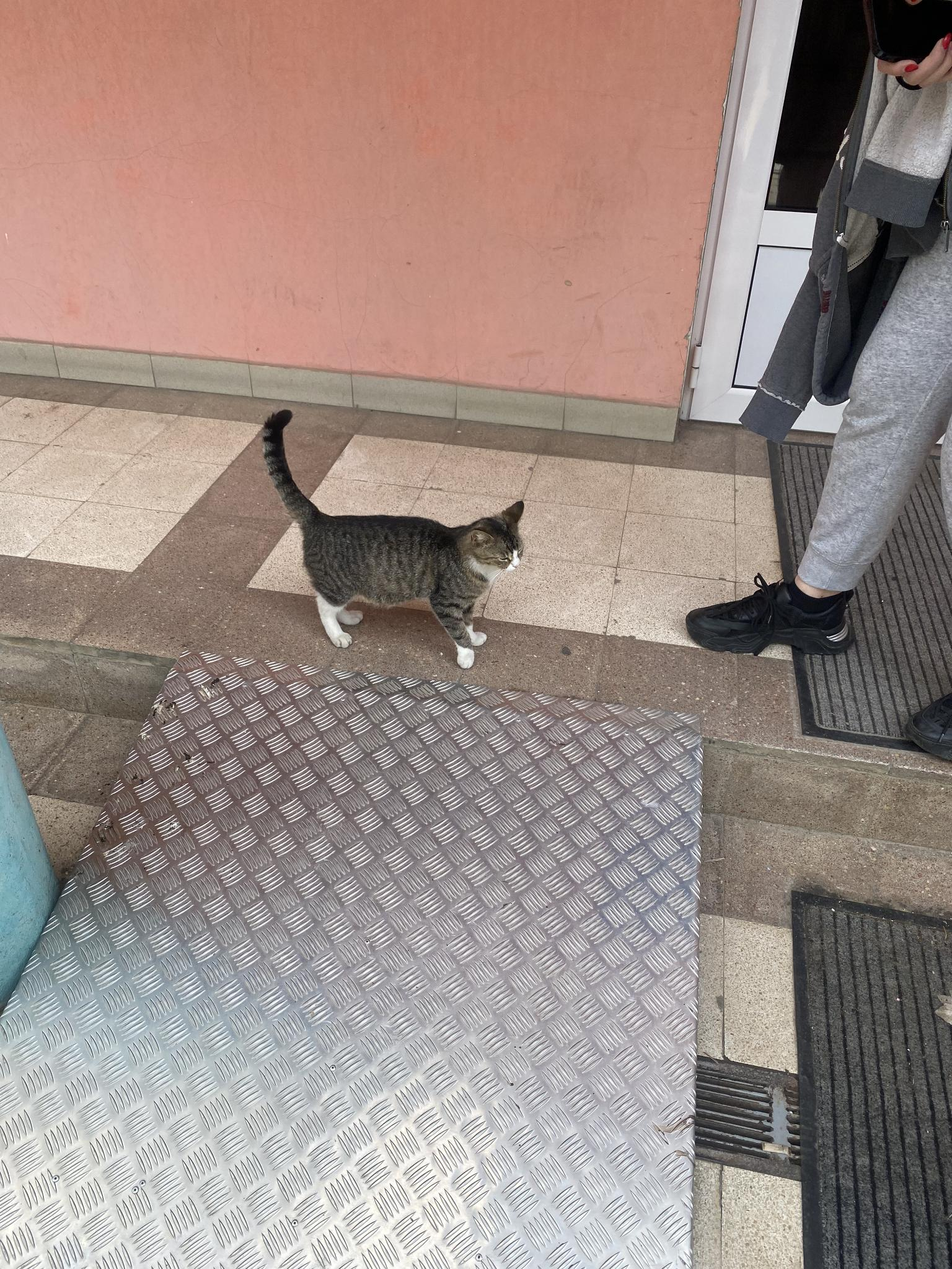macka: (261, 410, 525, 670)
